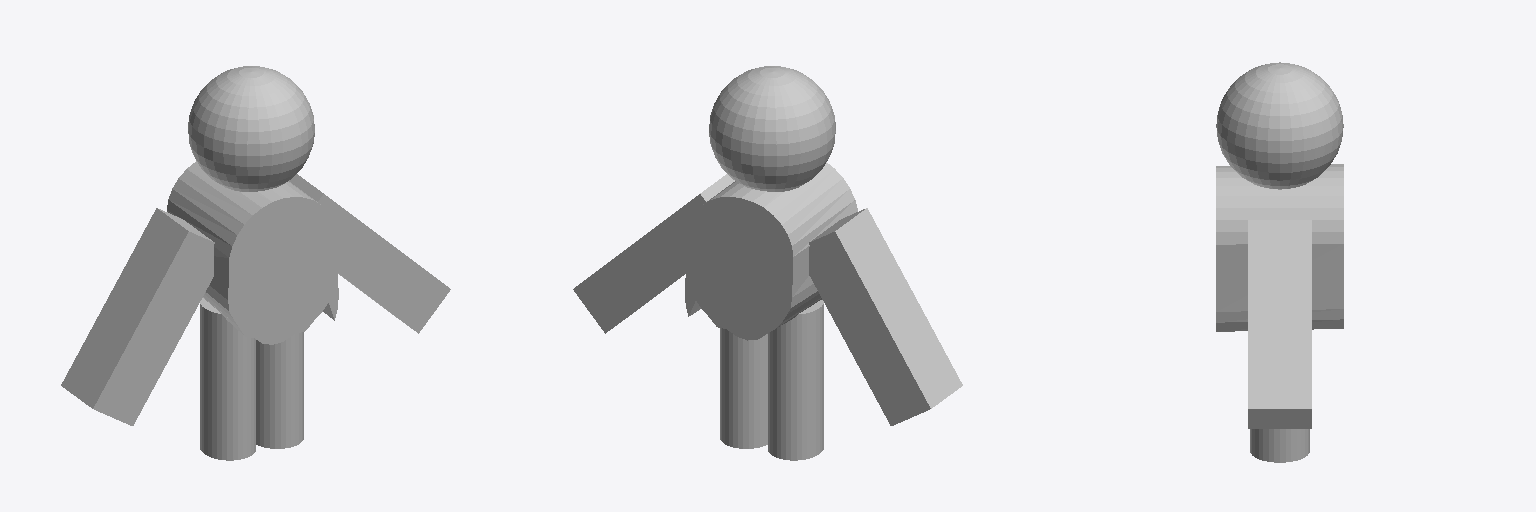
The model's file is Figurine24.obj.
The picture shows the model from 3 angles: view 1: azimuth 30°, elevation 25°; view 2: azimuth 150°, elevation 25°; view 3: azimuth 270°, elevation 25°; orthographic projection.
Visible parts, largest first — view 1: Cylinder; view 2: Cylinder; view 3: Cylinder.
Part boxes in pixels (x1,y1,x2,y2): Cylinder: (61,66,450,460); Cylinder: (573,66,962,460); Cylinder: (1216,62,1343,462).
Bounding box in the file's own units: 6.49 × 6.42 × 2.